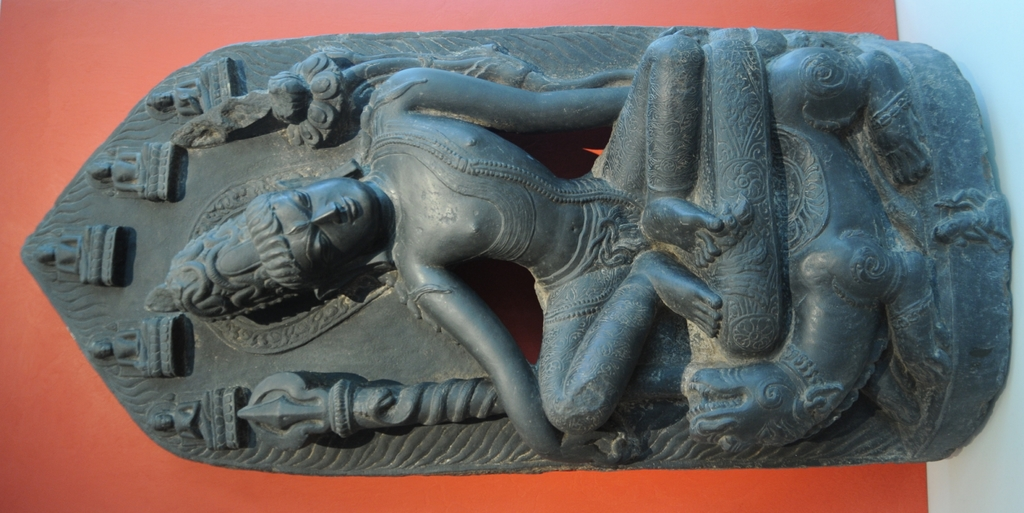Human_hand: (550, 429, 641, 469)
